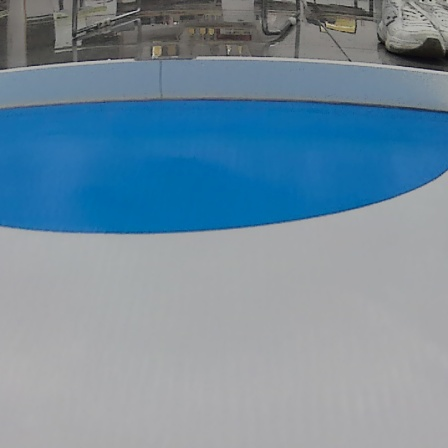blue_base: (0, 94, 447, 237)
